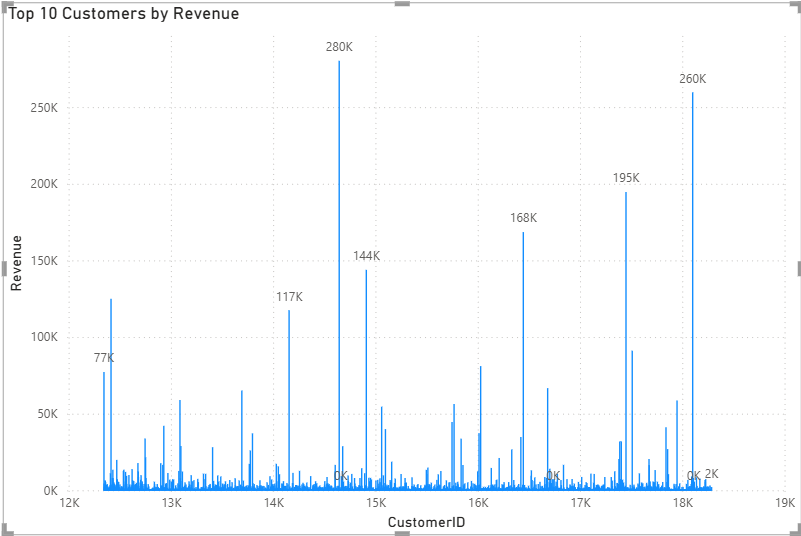

The page's visual inventory and layout, read from the dashboard file:
{"tool":"powerbi","page":{"name":"Top 10 Customers by Revenue","canvas":[1280,720],"ordinal":3},"visuals":[{"type":"clusteredColumnChart","title":"Top 10 Customers by Revenue","fields":{"Category":["Online Retail.CustomerID"],"Y":["Online Retail.Revenue"]},"box":[248.4,98.8,780.8,521.4],"z":0}]}

Visuals, with their boxes on the page's 1280x720 design canvas (x1, y1, x2, y2). These are canvas units, not pixel positions in the 801x536 screenshot, which may show the page scaled, cropped or inside an application window:
"Top 10 Customers by Revenue" clusteredColumnChart: (248,99,1029,620)
